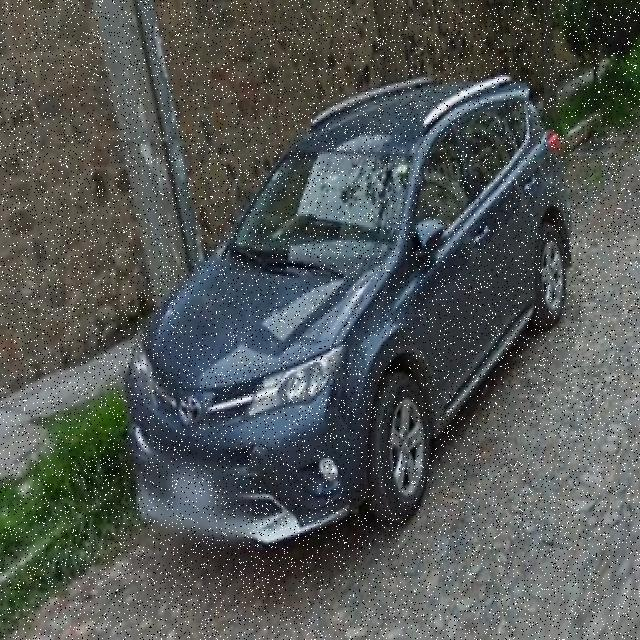cars: (128, 63, 580, 551)
